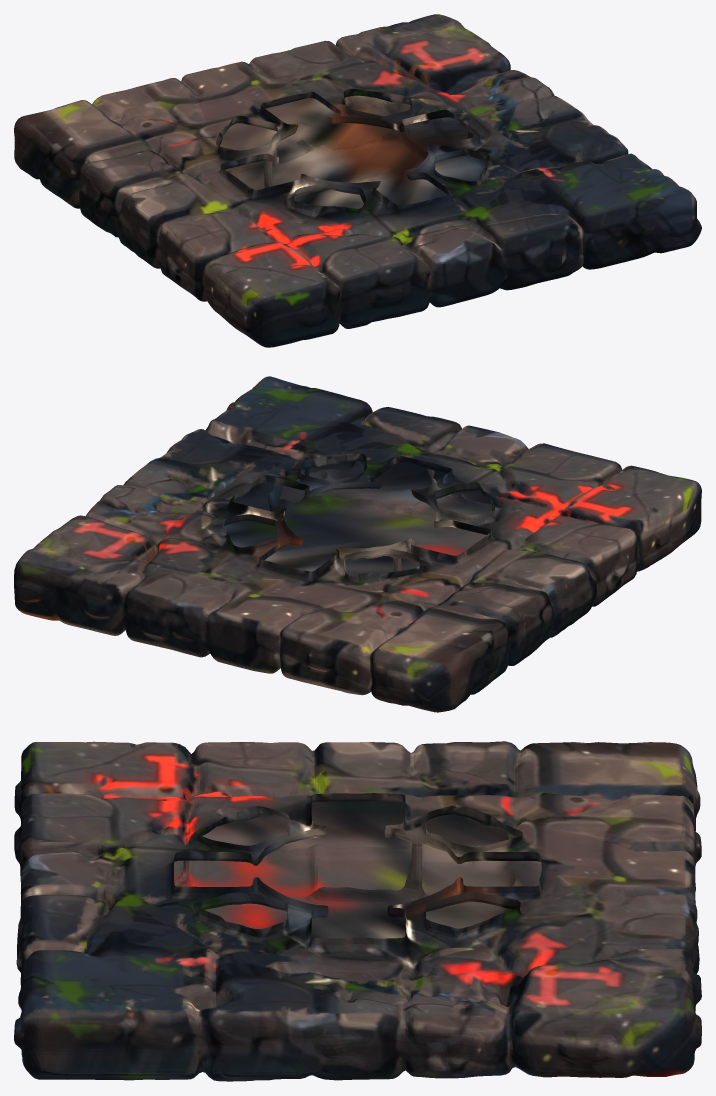
File: idol_war_plate.glb
3 views of the same model, one above another, from view 1: azimuth 30°, elevation 25°; view 2: azimuth 150°, elevation 25°; view 3: azimuth 270°, elevation 25° (orthographic). The views are drawn at different scales.
Visible parts, largest first — view 1: idol_war_plate; view 2: idol_war_plate; view 3: idol_war_plate.
Part boxes in pixels (x1=…): idol_war_plate: x1=14, y1=14, x2=701, y2=347; idol_war_plate: x1=14, y1=376, x2=701, y2=712; idol_war_plate: x1=14, y1=741, x2=701, y2=1081.
Size of the model in its own units: 1.99 by 0.2498 by 2.
1 material, 1 textured.
